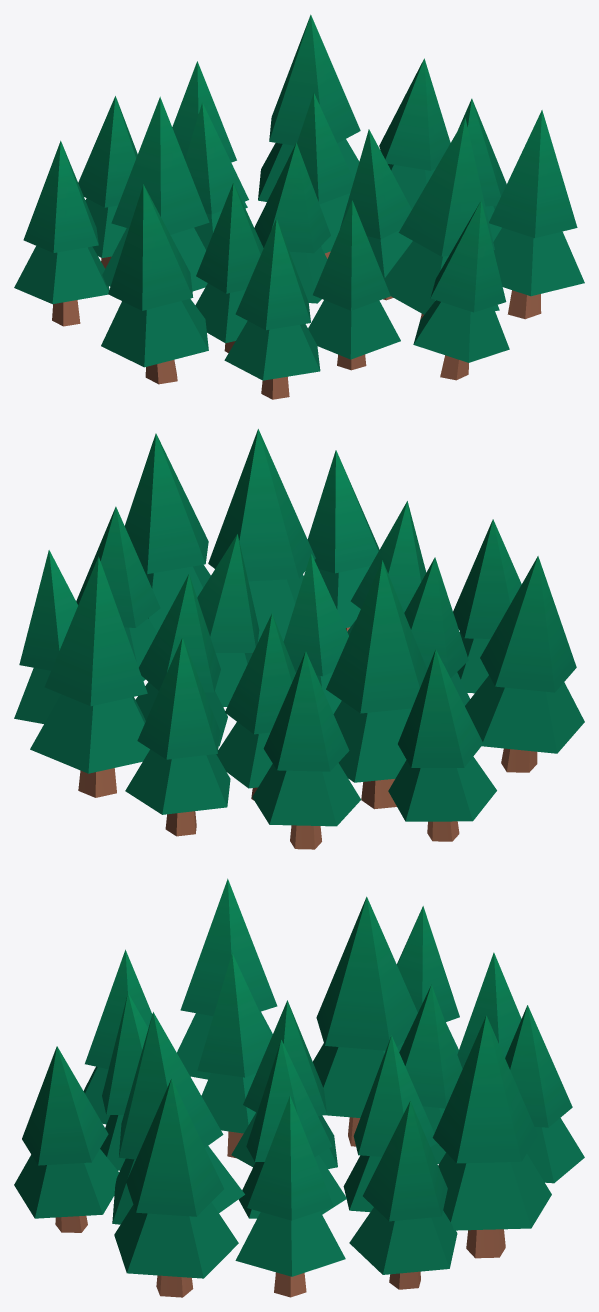
File: trees_a_large.glb
3 views of the same model, one above another, from view 1: azimuth 30°, elevation 25°; view 2: azimuth 150°, elevation 25°; view 3: azimuth 270°, elevation 25° (orthographic). The views are drawn at different scales.
Visible parts, largest first — view 1: trees_A_large; view 2: trees_A_large; view 3: trees_A_large.
Boxes of the visible parts, x1,y1,x2,y2 form: trees_A_large: [14, 14, 584, 399]; trees_A_large: [14, 429, 584, 849]; trees_A_large: [14, 878, 584, 1297].
Bounding box in the file's own units: 1.95 × 0.9265 × 1.97.
Materials: 1 (1 with a texture image).
